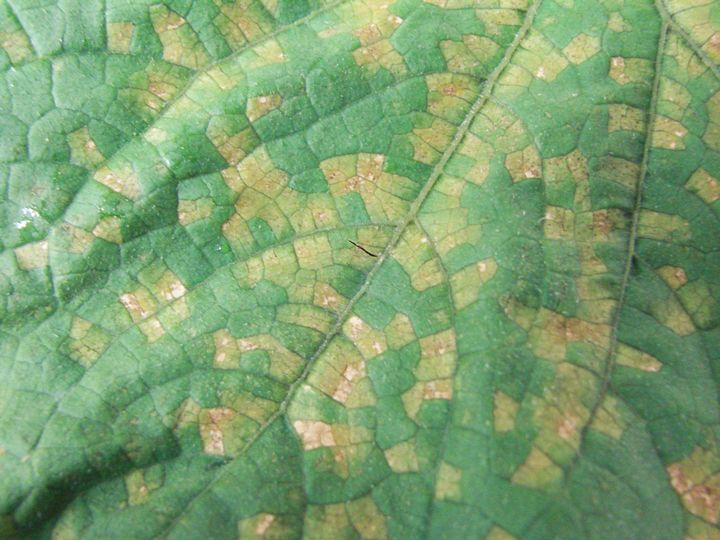downy: (210, 126, 507, 287), (491, 293, 661, 496), (141, 5, 302, 120), (421, 26, 607, 118), (613, 30, 720, 170), (288, 410, 426, 482), (161, 387, 285, 465), (2, 196, 120, 273), (47, 114, 141, 198), (222, 500, 389, 540), (323, 1, 412, 74), (209, 323, 307, 383), (120, 279, 195, 348), (668, 446, 719, 540), (56, 316, 117, 374), (109, 466, 158, 515), (86, 16, 138, 55), (432, 462, 474, 508), (1, 27, 37, 76)
